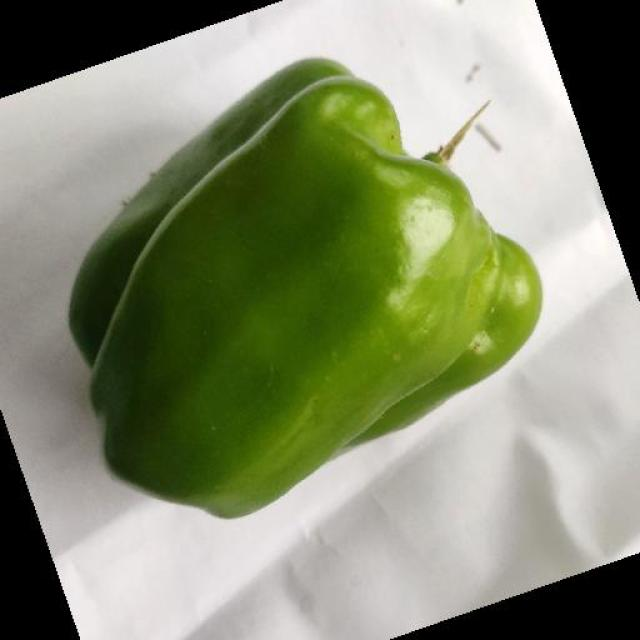Fresh_Capsicum: (105, 76, 540, 496)
